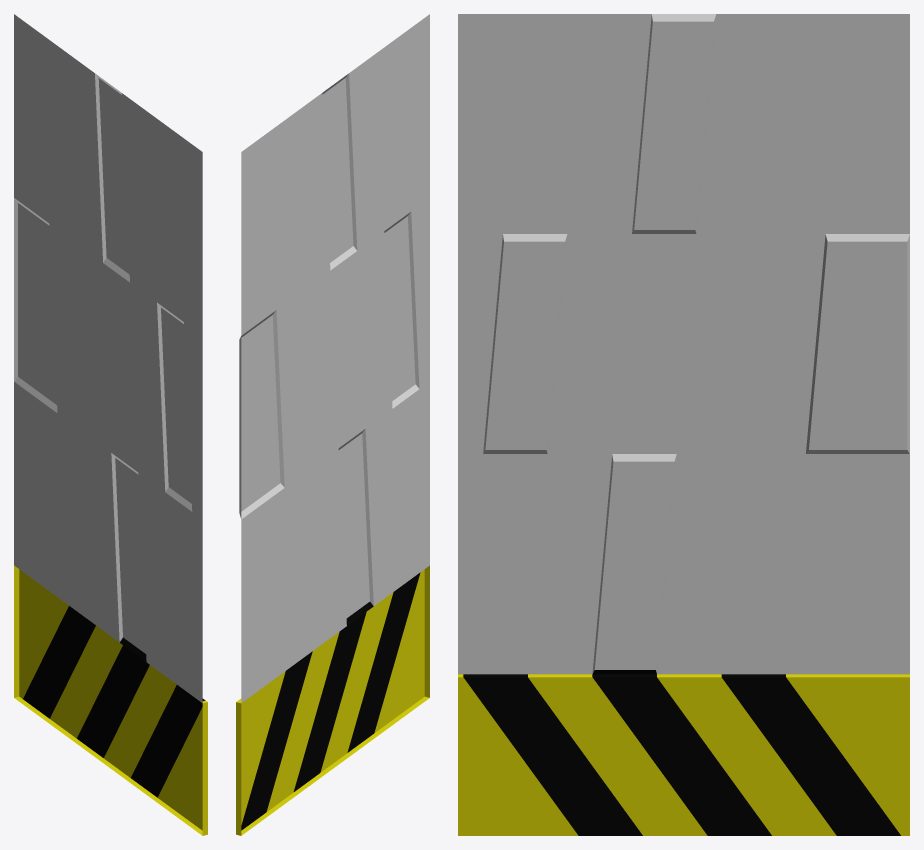
File: wall.glb
3 views of the same model, side by side, from view 1: azimuth 30°, elevation 25°; view 2: azimuth 150°, elevation 25°; view 3: azimuth 270°, elevation 25° (orthographic). The views are drawn at different scales.
Visible parts, largest first — view 1: wall; view 2: wall; view 3: wall.
Boxes of the visible parts, x1,y1,x2,y2 form: wall: (14, 14, 207, 835); wall: (236, 14, 429, 835); wall: (458, 14, 909, 835).
Size of the model in its own units: 0.0323 by 4 by 2.
